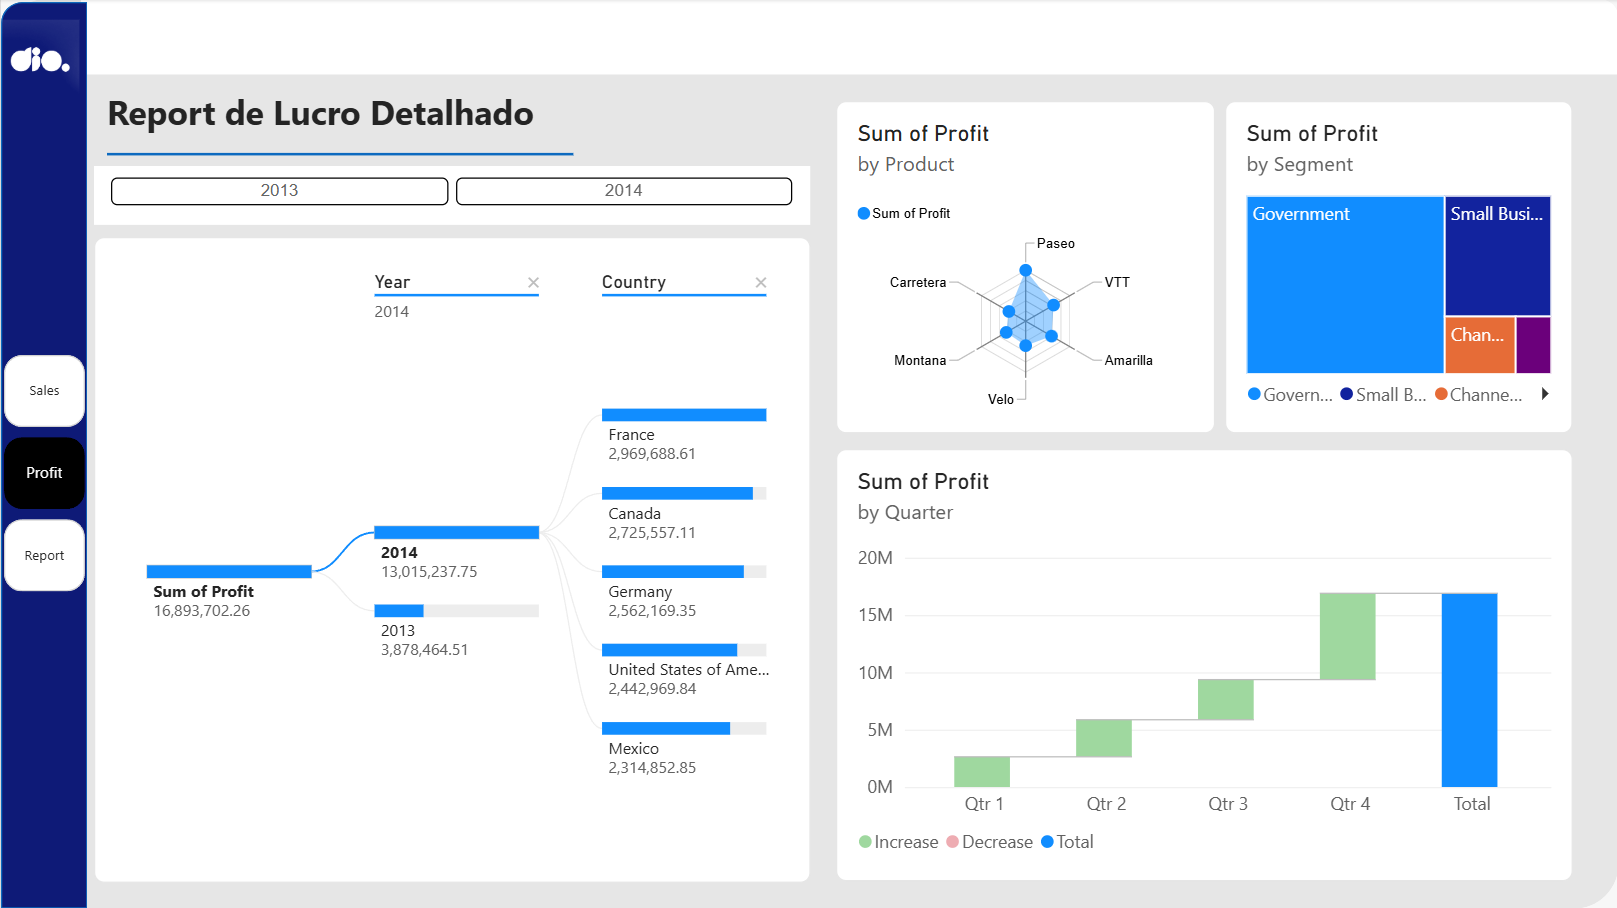

The page's visual inventory and layout, read from the dashboard file:
{"tool":"powerbi","page":{"name":"Profit","canvas":[1280,720],"ordinal":1},"visuals":[{"type":"shape","box":[0,0,1280,720],"z":0},{"type":"shape","box":[63.3,0,1216.7,59.9],"z":1000},{"type":"shape","box":[0,2.5,68.3,717.2],"z":3000},{"type":"image","box":[0,2.4,62.4,90.7],"z":5000},{"type":"textbox","box":[83.7,70.7,394.2,45.7],"z":6000},{"type":"shape","box":[83.7,107,369.2,31.9],"z":7000},{"type":"shape","box":[73.3,132,566.7,46.6],"z":8000},{"type":"ChicletSlicer1448559807354","fields":{"Category":["financials.Year"]},"box":[68.3,124,577.1,61.6],"z":9000},{"type":"waterfallChart","fields":{"Category":["financials.Date.Variation.Date Hierarchy.Quarter"],"Y":["Sum(financials.Profit)"]},"box":[660.7,356.2,583.1,342.4],"z":10000},{"type":"treemap","fields":{"Group":["financials.Segment"],"Values":["Sum(financials.Profit)"]},"box":[968.6,81.1,275.1,263.1],"z":11000},{"type":"decompositionTreeVisual","fields":{"Analyze":["Sum(financials.Profit)"],"ExplainBy":["financials.Year","financials.Country"]},"box":[73.3,188,566.7,510.6],"z":12000},{"type":"RadarChart1446119667547","fields":{"Category":["financials.Product"],"Y":["Sum(financials.Profit)"]},"box":[660.7,81.1,300.2,263.1],"z":13000},{"type":"pageNavigator","box":[2.2,281.5,64.3,188.4],"z":15001}]}

Visuals, with their boxes on the page's 1280x720 design canvas (x1, y1, x2, y2). These are canvas units, not pixel positions in the 1617x908 screenshot, which may show the page scaled, cropped or inside an application window:
shape: BBox(0, 0, 1280, 720)
shape: BBox(63, 0, 1280, 60)
shape: BBox(0, 2, 68, 720)
image: BBox(0, 2, 62, 93)
textbox: BBox(84, 71, 478, 116)
shape: BBox(84, 107, 453, 139)
shape: BBox(73, 132, 640, 179)
ChicletSlicer1448559807354 - financials.Year: BBox(68, 124, 645, 186)
waterfallChart - financials.Date.Variation.Date Hierarchy.Quarter x Sum(financials.Profit): BBox(661, 356, 1244, 699)
treemap - financials.Segment x Sum(financials.Profit): BBox(969, 81, 1244, 344)
decompositionTreeVisual - Sum(financials.Profit) x financials.Year: BBox(73, 188, 640, 699)
RadarChart1446119667547 - financials.Product x Sum(financials.Profit): BBox(661, 81, 961, 344)
pageNavigator: BBox(2, 282, 66, 470)
